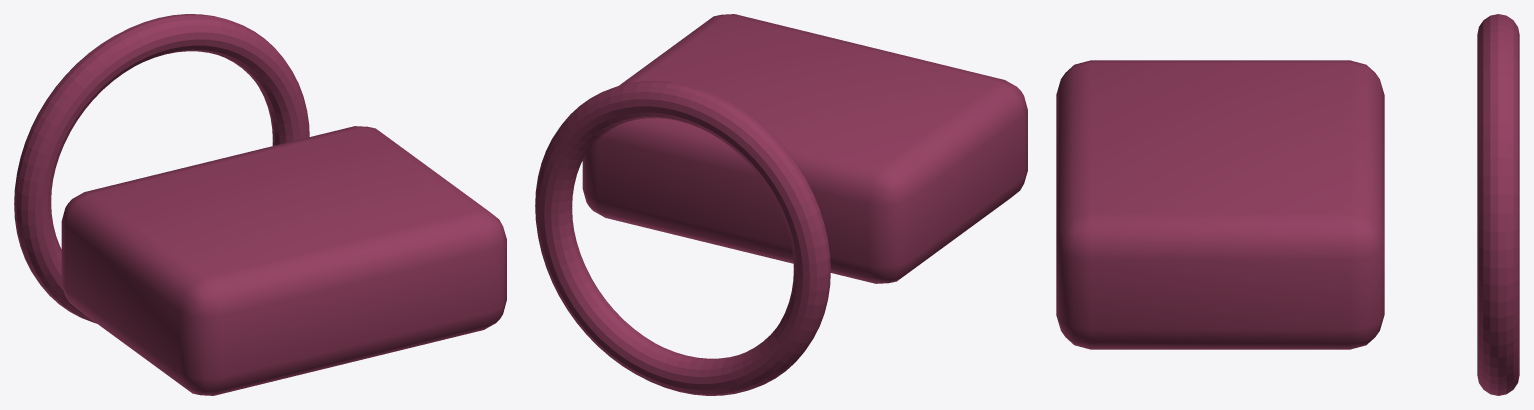
File: bag.glb
The picture shows the model from 3 angles, left to right: view 1: azimuth 30°, elevation 25°; view 2: azimuth 150°, elevation 25°; view 3: azimuth 270°, elevation 25°; orthographic projection. The views are drawn at different scales.
Visible parts, largest first — view 1: IMPAR_BAG_PROXY; view 2: IMPAR_BAG_PROXY; view 3: IMPAR_BAG_PROXY.
Part boxes in pixels (x1,y1,x2,y2): IMPAR_BAG_PROXY: (14,14,506,395); IMPAR_BAG_PROXY: (535,14,1027,395); IMPAR_BAG_PROXY: (1056,14,1519,395).
Bounding box in the file's own units: 1.1 × 0.99 × 1.2.
